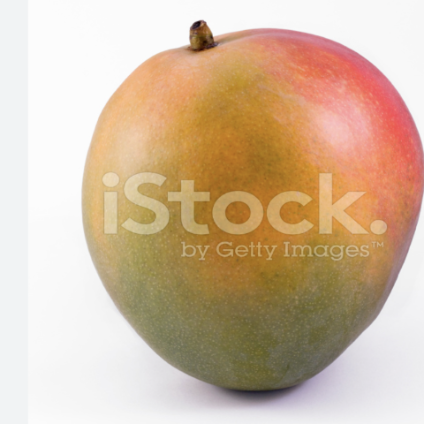mango: (58, 3, 424, 422)
